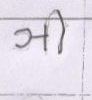i_matra: (51, 9, 68, 51)
